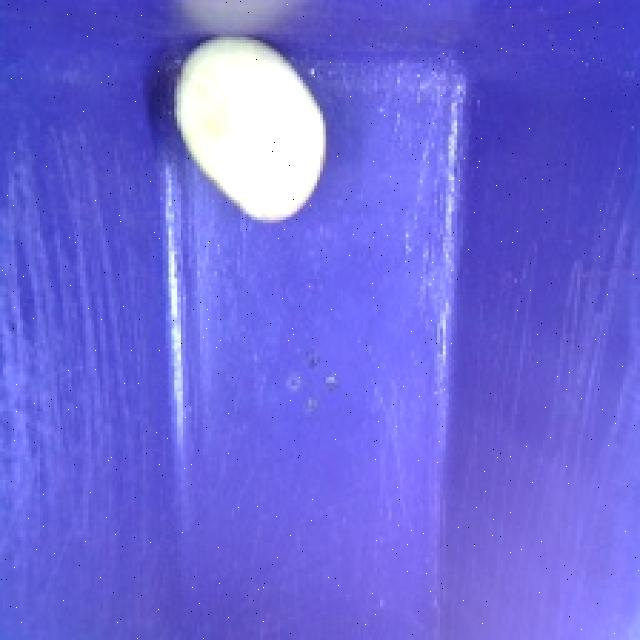potato: (155, 27, 337, 229)
